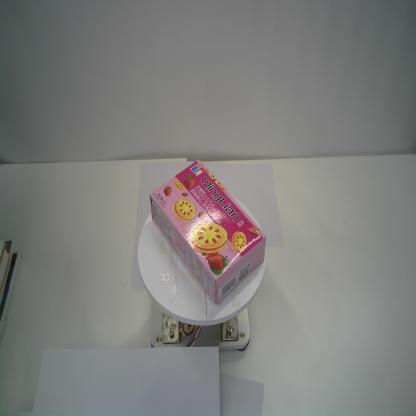Dessert: (149, 158, 266, 305)
